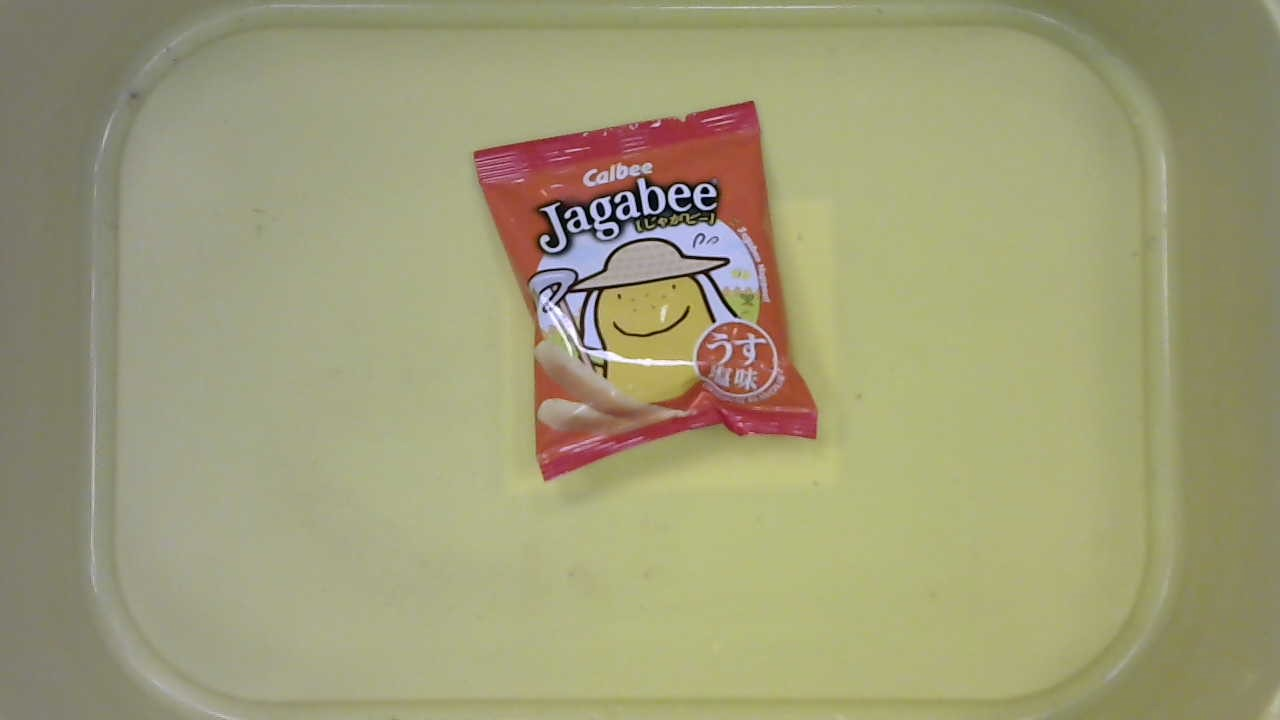JagabeeFarmer: (449, 93, 873, 500)
